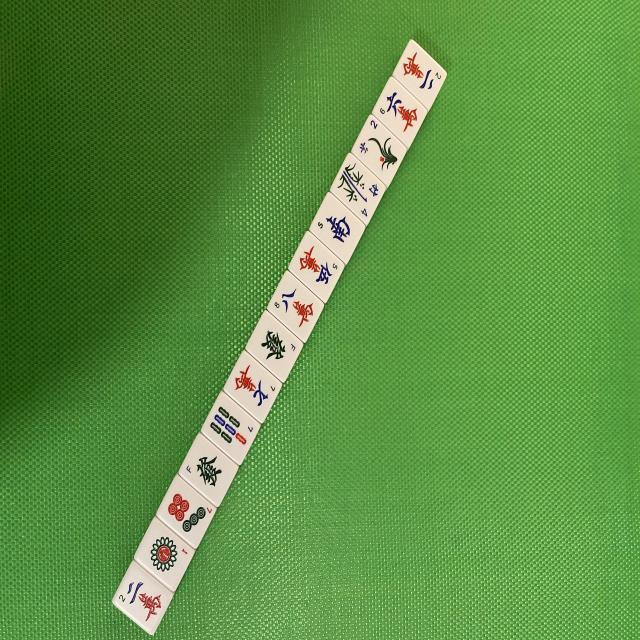bf2: (352, 116, 409, 186)
bf4: (328, 152, 387, 226)
hdg: (177, 432, 241, 508), (243, 309, 306, 384)
hws: (307, 190, 367, 264)
sb7: (202, 392, 264, 466)
sc2: (111, 559, 176, 637), (393, 40, 449, 111)
sc5: (287, 230, 348, 305)
sc6: (369, 74, 428, 148)
sc7: (220, 350, 285, 426)
sc8: (265, 270, 326, 345)
sd1: (132, 516, 198, 592)
sd7: (154, 474, 219, 551)
